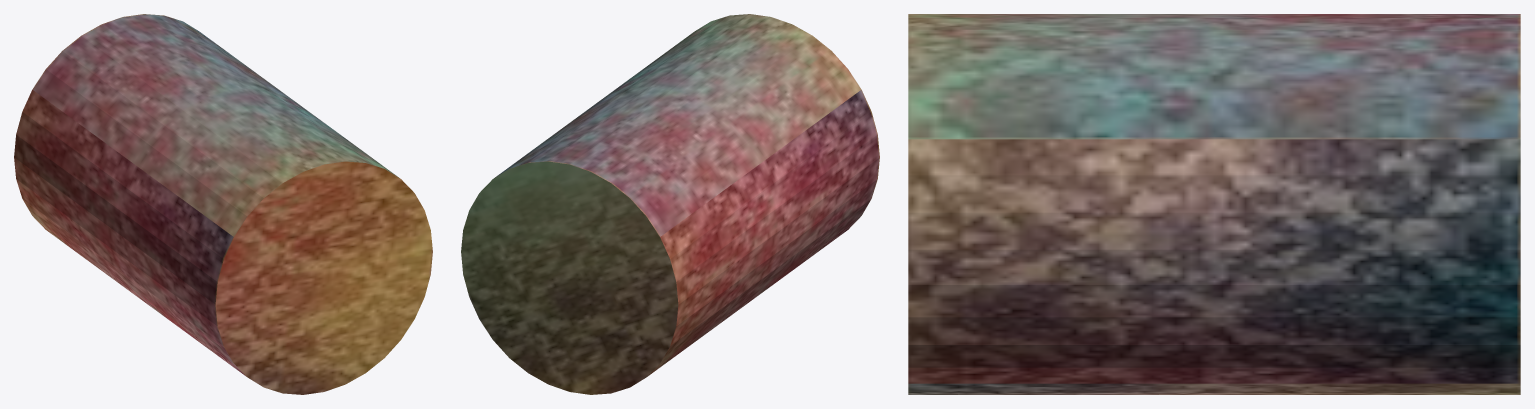
File: plunger.obj
The picture shows the model from 3 angles, left to right: view 1: azimuth 30°, elevation 25°; view 2: azimuth 150°, elevation 25°; view 3: azimuth 270°, elevation 25°; orthographic projection. The views are drawn at different scales.
Parts seen in each view (by area): view 1: Cylinder.001; view 2: Cylinder.001; view 3: Cylinder.001.
Boxes of the visible parts, <box> form: Cylinder.001: <box>14,14,432,394</box>; Cylinder.001: <box>461,14,879,394</box>; Cylinder.001: <box>908,14,1520,394</box>.
Bounding box in the file's own units: 0.1863 × 0.1863 × 0.2992.
